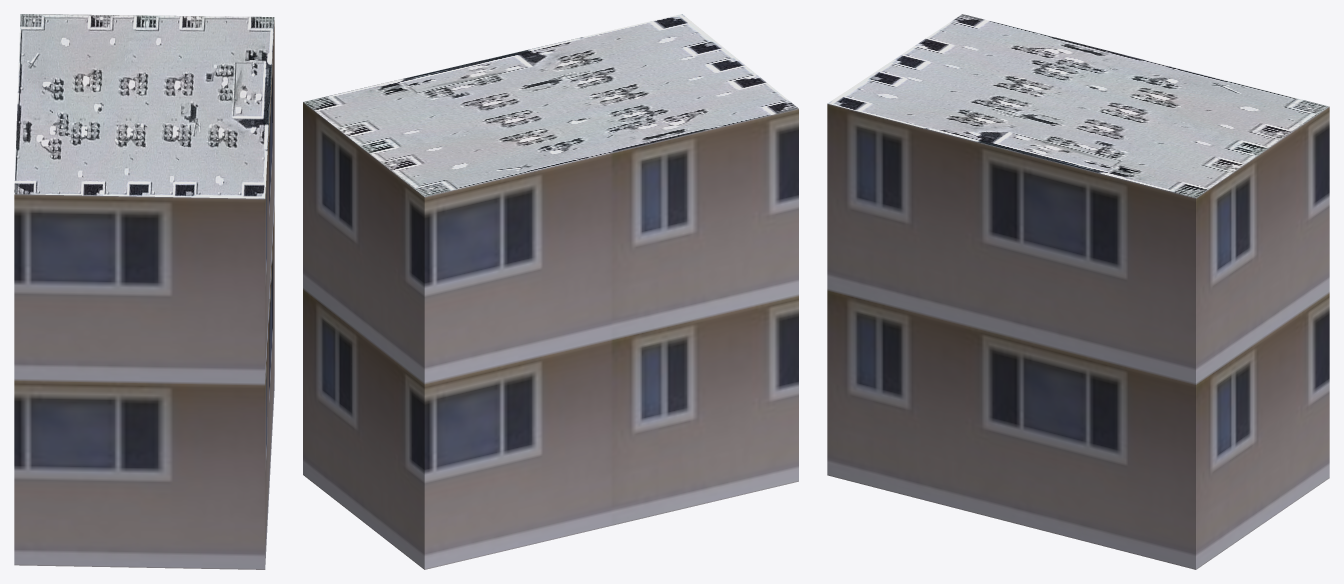
File: ResTex__250.fbx
3 renders of one model, left to right at view 1: azimuth 30°, elevation 25°; view 2: azimuth 150°, elevation 25°; view 3: azimuth 270°, elevation 25°, orthographic.
Visible parts, largest first — view 1: CityEngineMaterial_21_m, CityEngineMaterial_4_m; view 2: CityEngineMaterial_21_m, CityEngineMaterial_4_m; view 3: CityEngineMaterial_21_m, CityEngineMaterial_4_m.
Part boxes in pixels (left/top/right/bottom): CityEngineMaterial_21_m: left=14, top=20, right=274, bottom=569; CityEngineMaterial_4_m: left=14, top=14, right=274, bottom=198; CityEngineMaterial_21_m: left=303, top=102, right=798, bottom=569; CityEngineMaterial_4_m: left=303, top=14, right=798, bottom=196; CityEngineMaterial_21_m: left=827, top=103, right=1329, bottom=569; CityEngineMaterial_4_m: left=828, top=14, right=1328, bottom=197.
Bounding box in the file's own units: 6.38 × 6 × 7.34.
2 materials, 2 textured.
